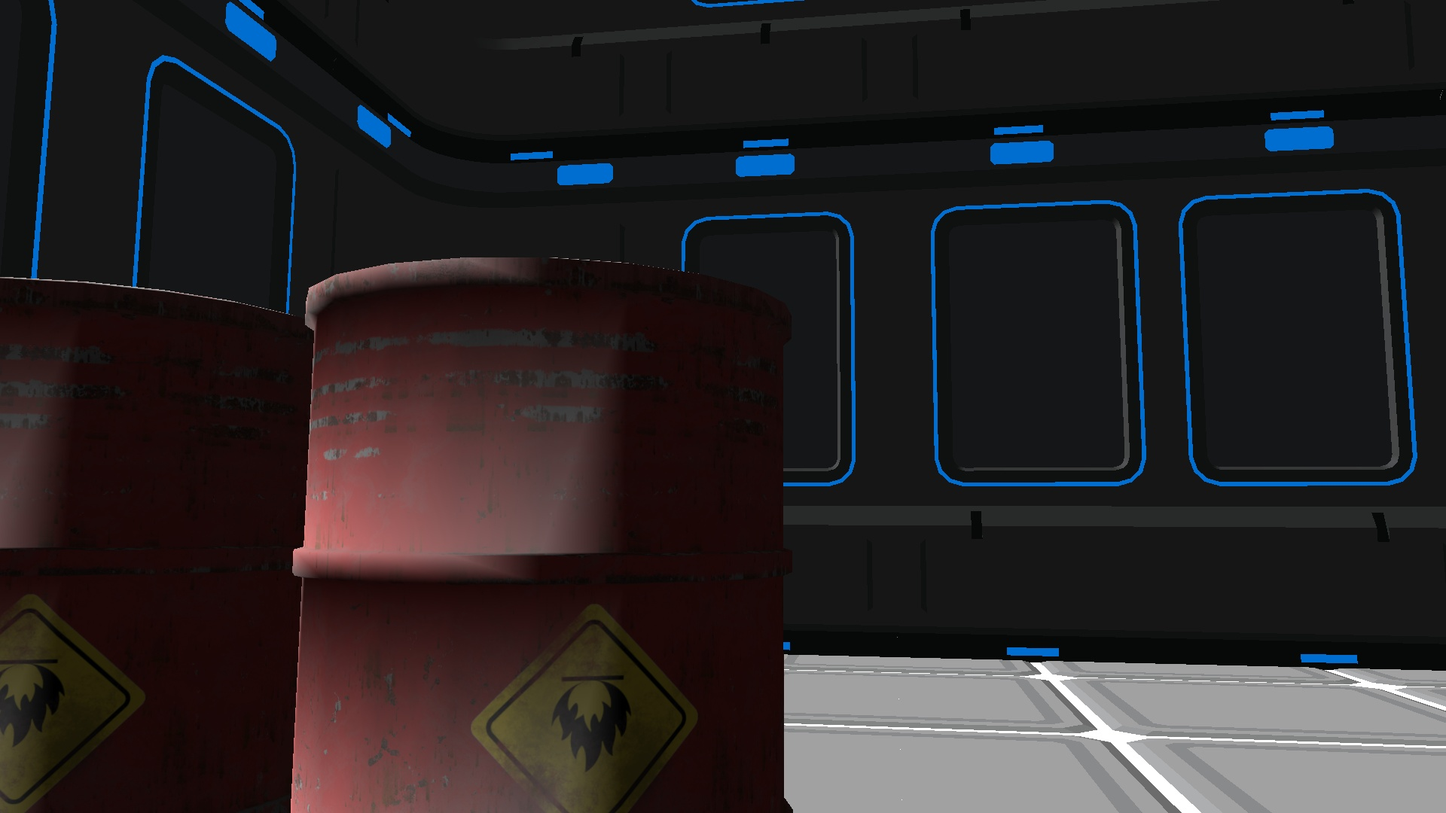toxic barrel: (290, 258, 797, 813), (0, 278, 312, 813)
